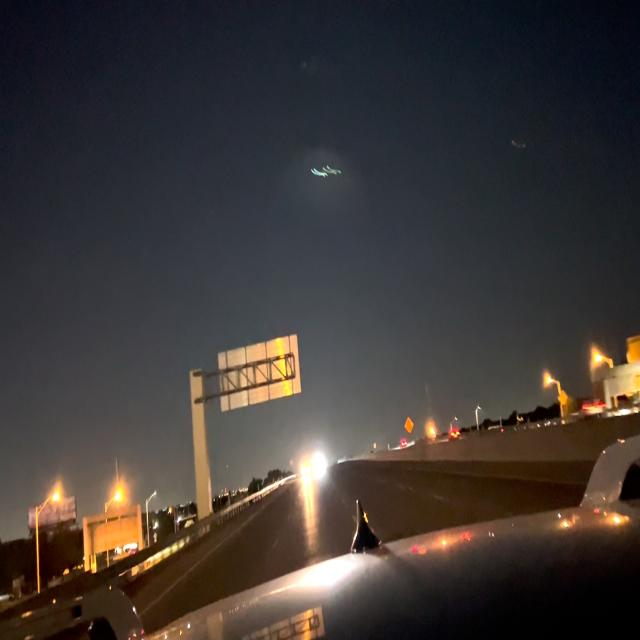back-of-sign: (216, 337, 302, 416)
